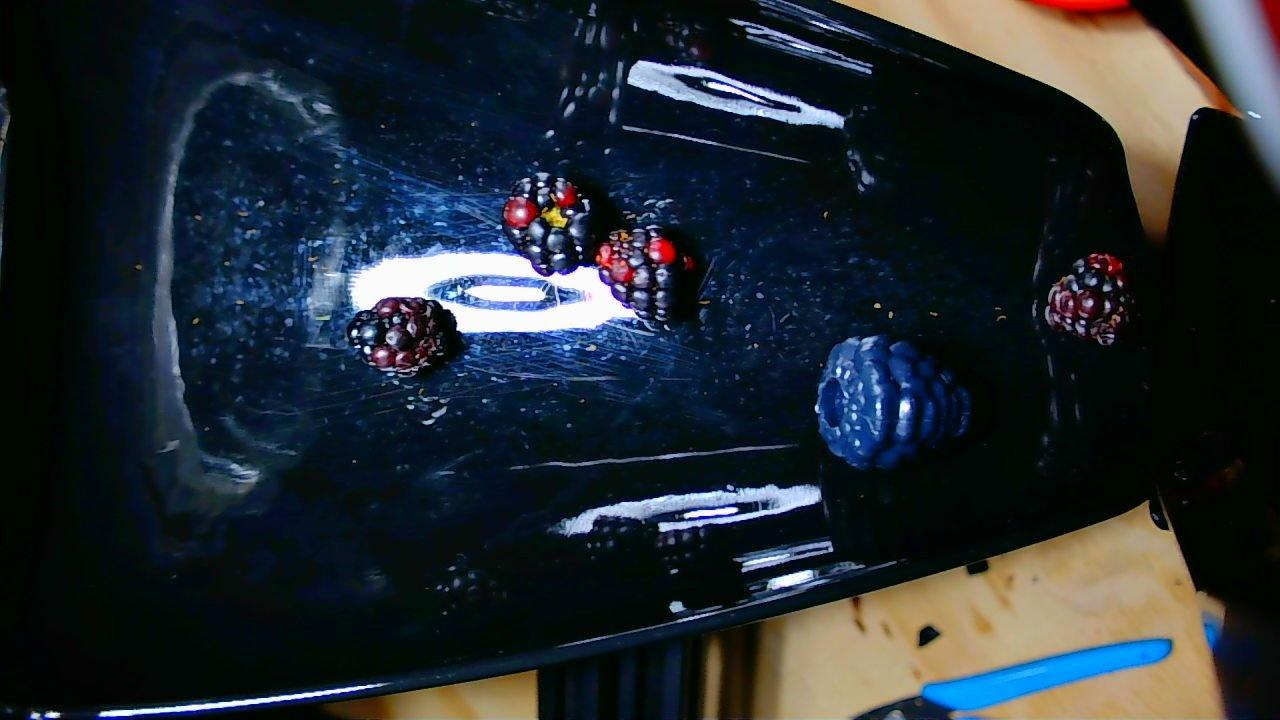berry: (814, 335, 971, 469), (503, 172, 596, 274), (596, 225, 693, 321), (345, 298, 458, 374), (1042, 253, 1133, 345)
